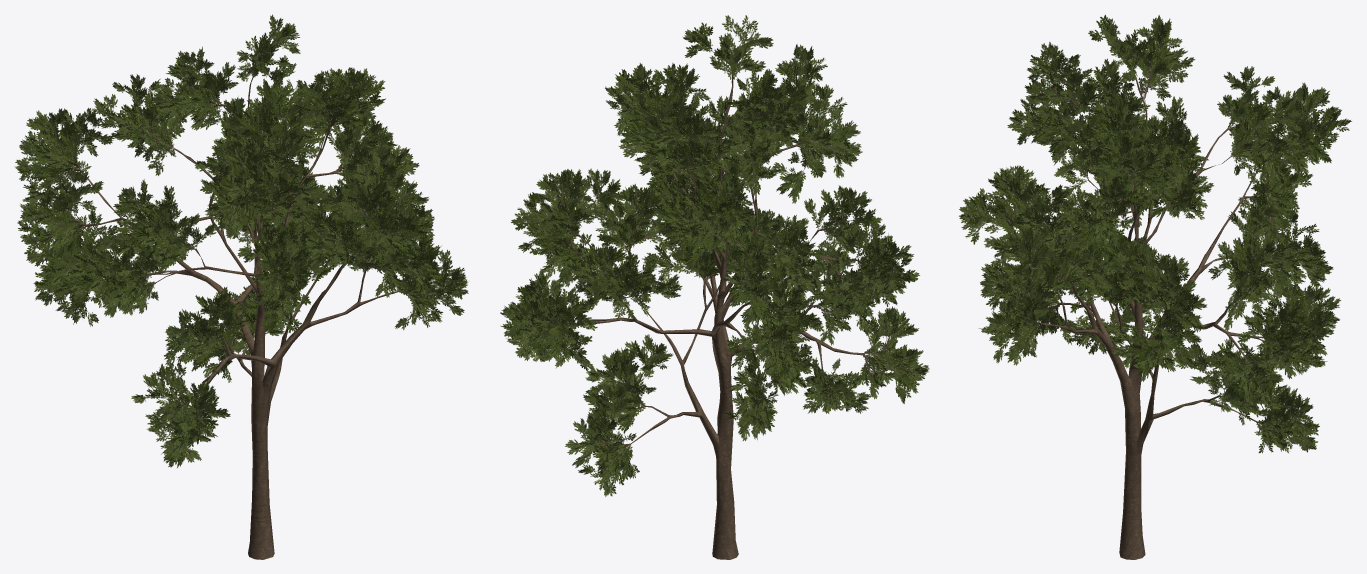
Rendered from enc_tree_autumn.glb.
The picture shows the model from 3 angles, left to right: view 1: azimuth 30°, elevation 25°; view 2: azimuth 150°, elevation 25°; view 3: azimuth 270°, elevation 25°; orthographic projection.
Parts seen in each view (by area): view 1: KB3D_ENC_BldgSmUpperTownSquare_A_TreeC; view 2: KB3D_ENC_BldgSmUpperTownSquare_A_TreeC; view 3: KB3D_ENC_BldgSmUpperTownSquare_A_TreeC.
Boxes of the visible parts, x1=… form: KB3D_ENC_BldgSmUpperTownSquare_A_TreeC: x1=15, y1=14, x2=468, y2=559; KB3D_ENC_BldgSmUpperTownSquare_A_TreeC: x1=500, y1=15, x2=929, y2=559; KB3D_ENC_BldgSmUpperTownSquare_A_TreeC: x1=959, y1=14, x2=1351, y2=559.
Size of the model in its own units: 6.13 by 8.42 by 5.62.
2 materials, 2 textured.
